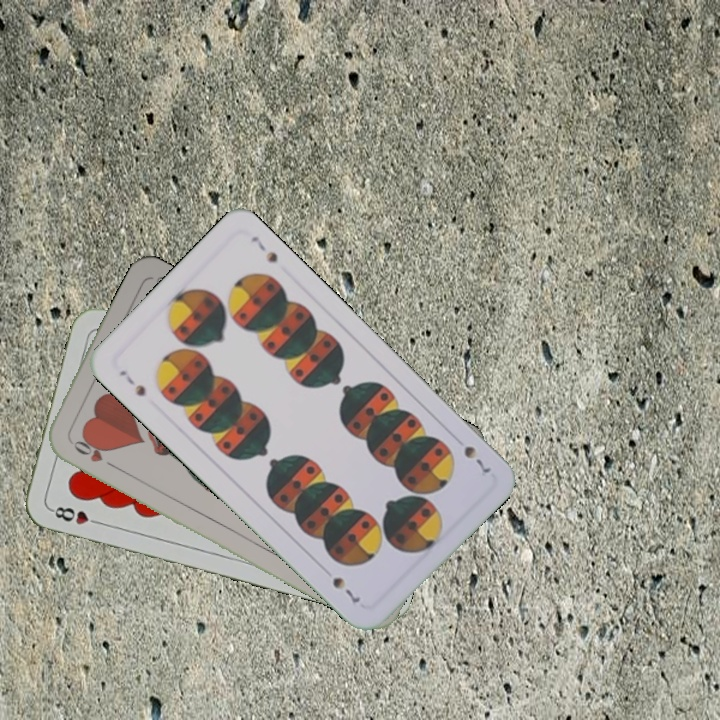H8: (47, 502, 105, 528)
HO: (66, 435, 119, 472)
S7: (459, 442, 494, 476), (115, 366, 148, 399)
